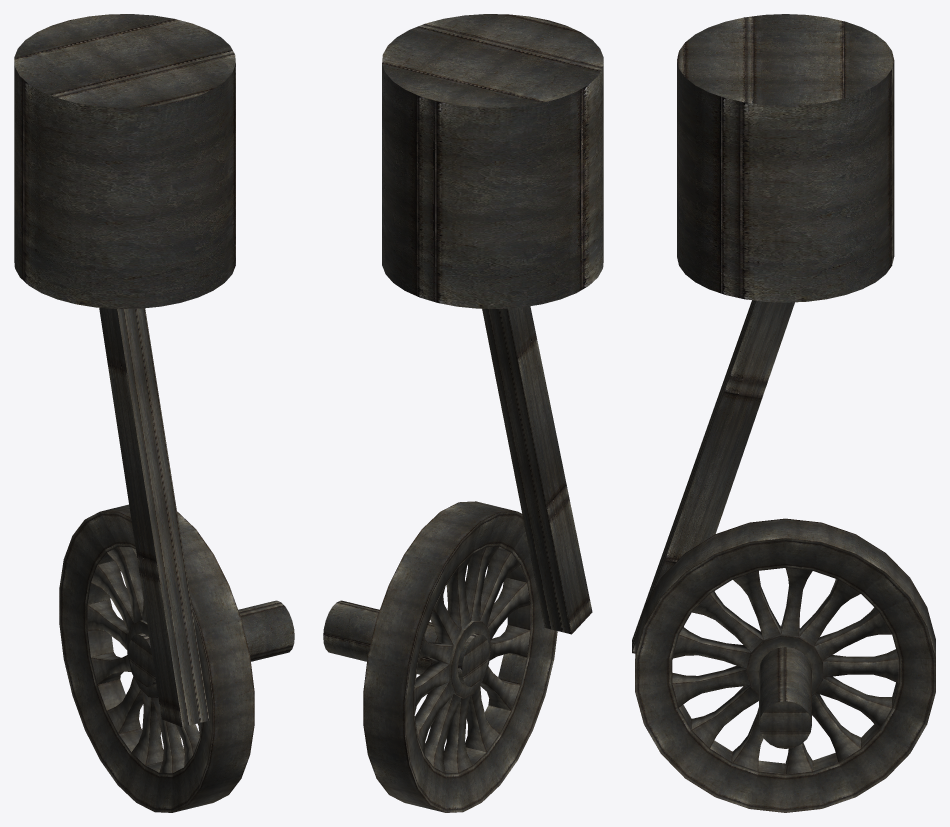
The model's file is engine_pistons.DAE.
3 views of the same model, side by side, from view 1: azimuth 30°, elevation 25°; view 2: azimuth 150°, elevation 25°; view 3: azimuth 270°, elevation 25° (orthographic). The views are drawn at different scales.
Parts seen in each view (by area): view 1: Cylinder001, flywheel, Box001, Cylinder002; view 2: Cylinder001, flywheel, Box001, Cylinder002; view 3: Cylinder001, flywheel, Box001, Cylinder002.
Part boxes in pixels (box(x1,y1,x2,y2)): Cylinder001: box(14, 14, 235, 308); flywheel: box(59, 504, 254, 812); Box001: box(99, 308, 209, 727); Cylinder002: box(129, 600, 294, 686); Cylinder001: box(382, 14, 603, 308); flywheel: box(363, 501, 557, 812); Box001: box(482, 306, 592, 634); Cylinder002: box(323, 600, 488, 686); Cylinder001: box(677, 14, 894, 302); flywheel: box(635, 518, 935, 812); Box001: box(632, 300, 794, 659); Cylinder002: box(759, 647, 811, 748).
Size of the model in its own units: 10.49 by 29.58 by 11.19.
